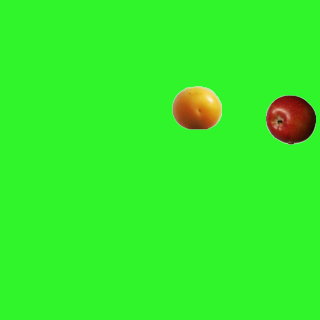Apple Braeburn: (265, 94, 315, 144)
Cherry Wax Yellow: (171, 82, 221, 132)
